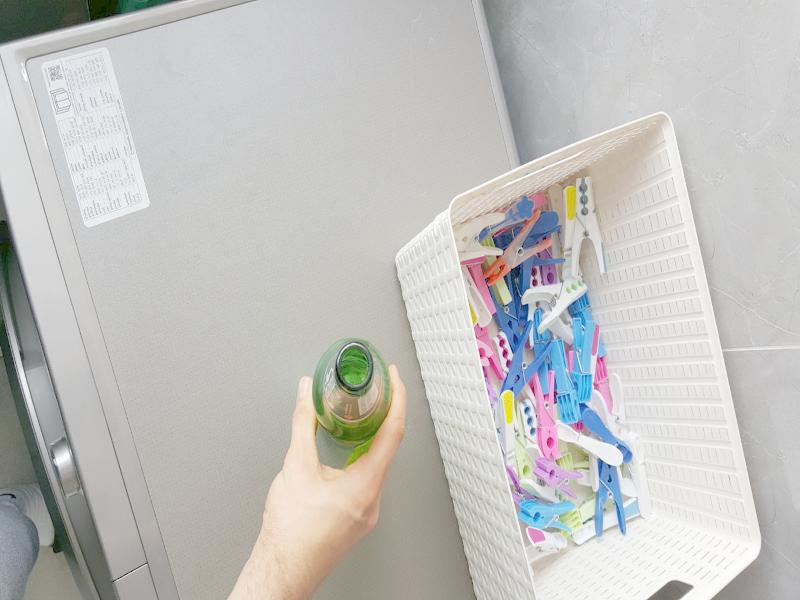Beer: (311, 338, 391, 449)
